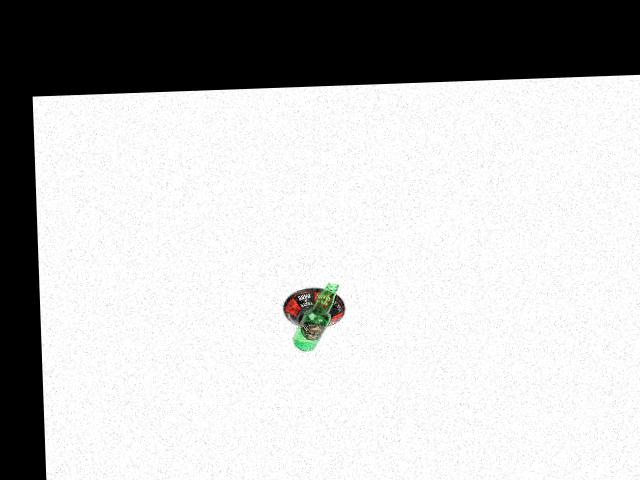beer: (289, 281, 340, 351)
